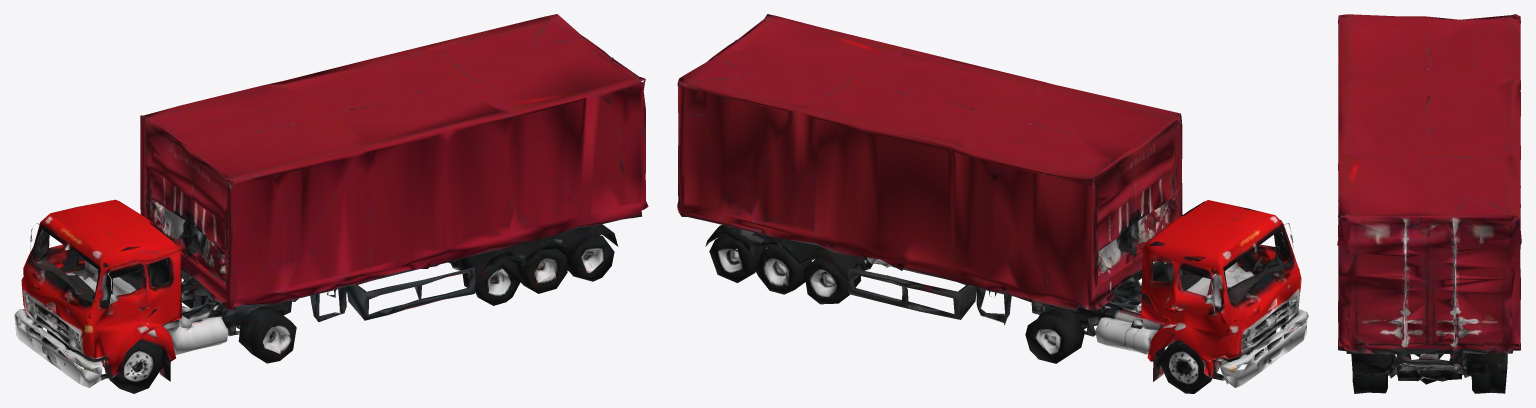
File: container20.glb
3 views of the same model, side by side, from view 1: azimuth 30°, elevation 25°; view 2: azimuth 150°, elevation 25°; view 3: azimuth 270°, elevation 25° (orthographic).
Bounding box in the file's own units: 1.99 × 0.6974 × 0.5758.
1 material, 1 textured.
